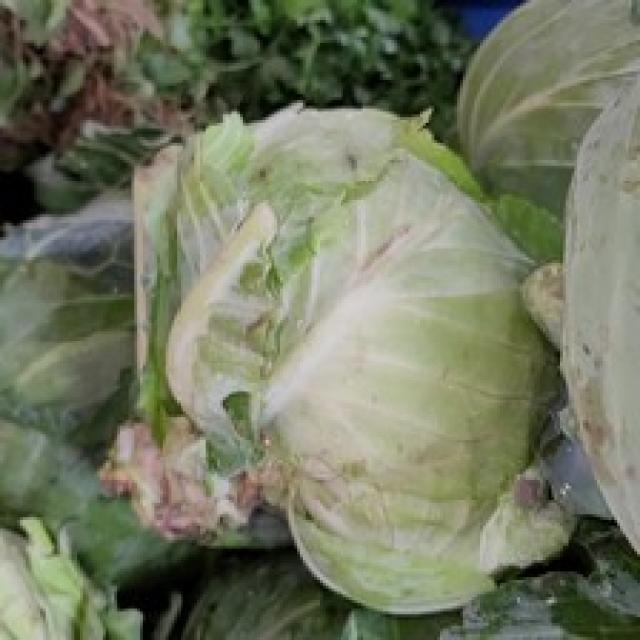Cabbage: (128, 111, 570, 586)
